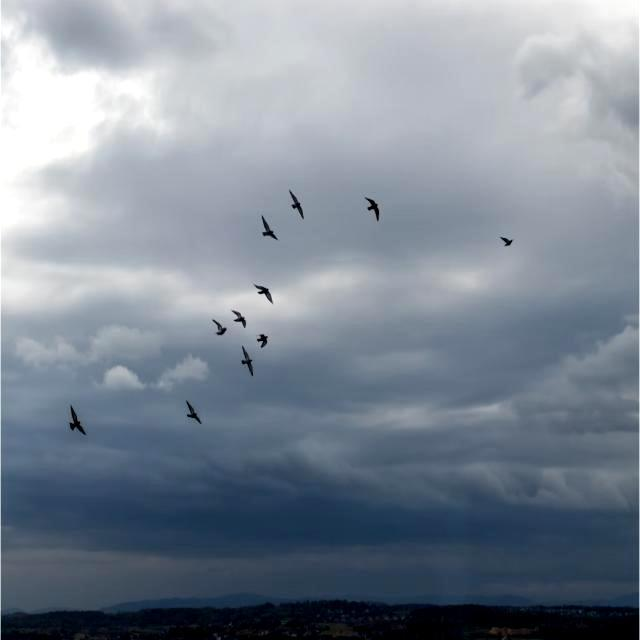bird: (177, 396, 209, 428), (62, 404, 90, 438), (361, 188, 384, 223), (238, 344, 256, 384), (258, 210, 279, 243), (288, 190, 308, 222), (252, 280, 276, 304), (208, 318, 230, 340), (498, 232, 518, 254), (230, 308, 248, 329), (256, 329, 271, 352)
